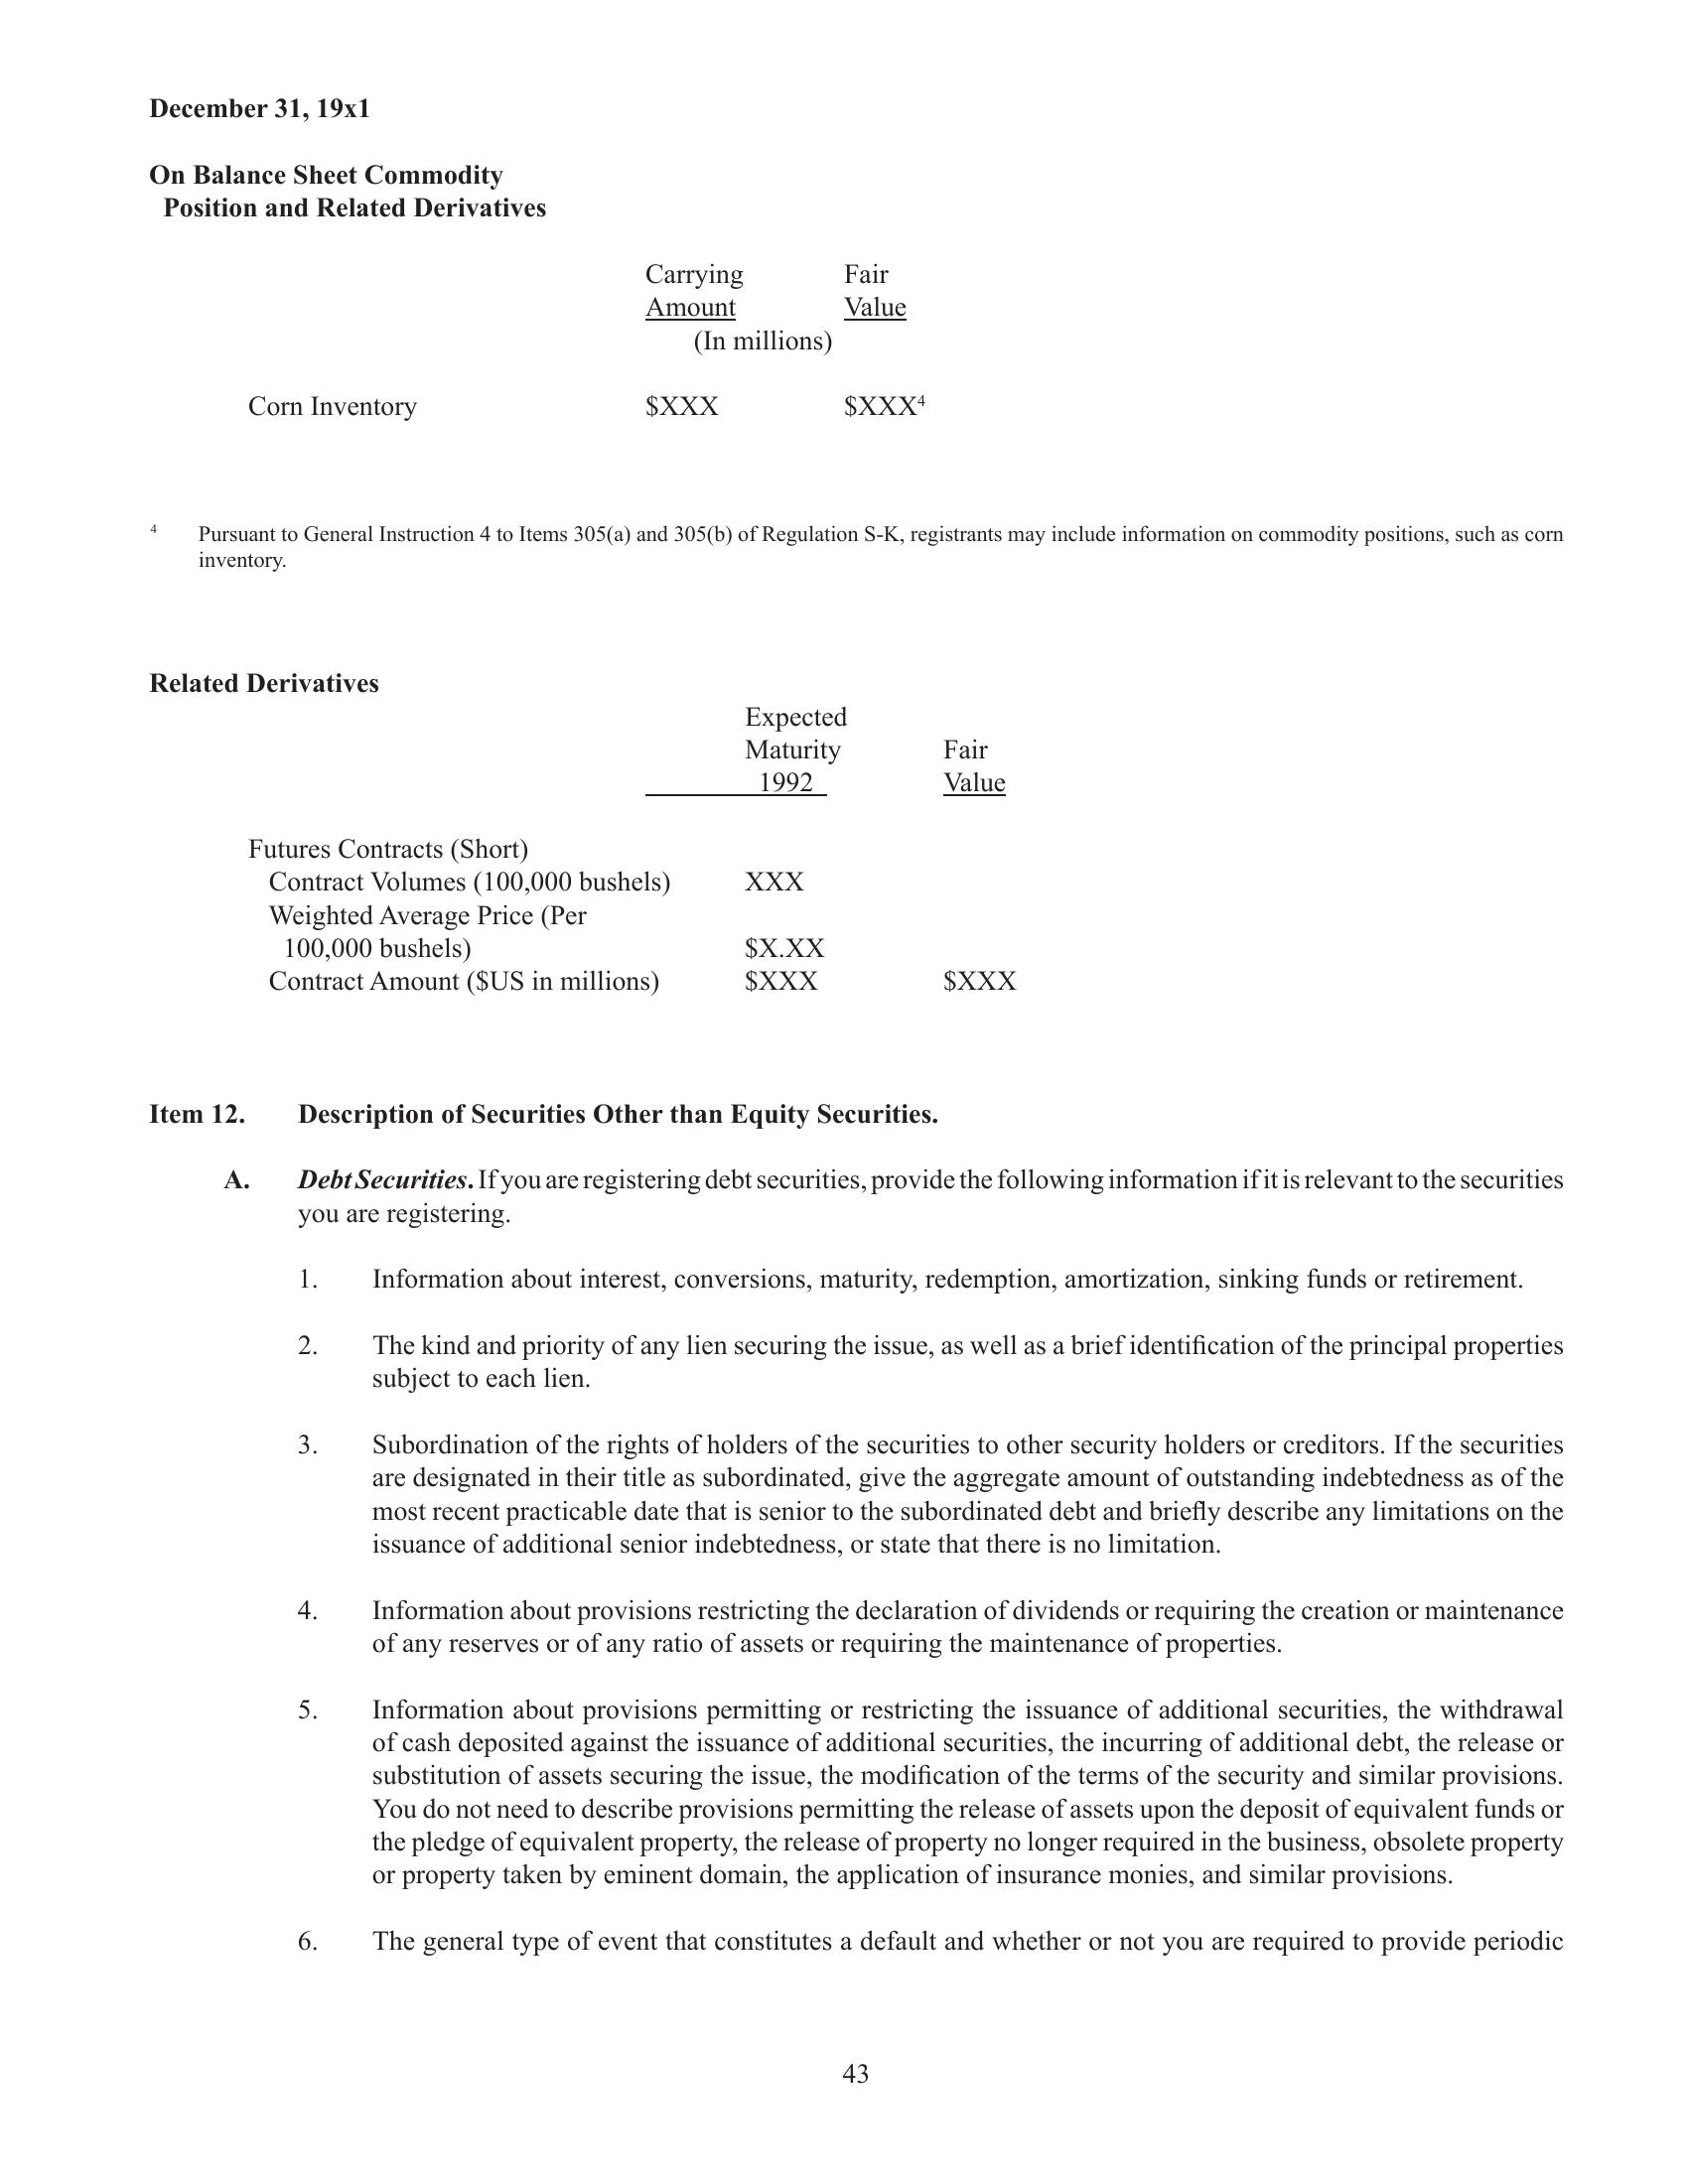table: (236, 698, 1021, 1000), (243, 245, 940, 431)
